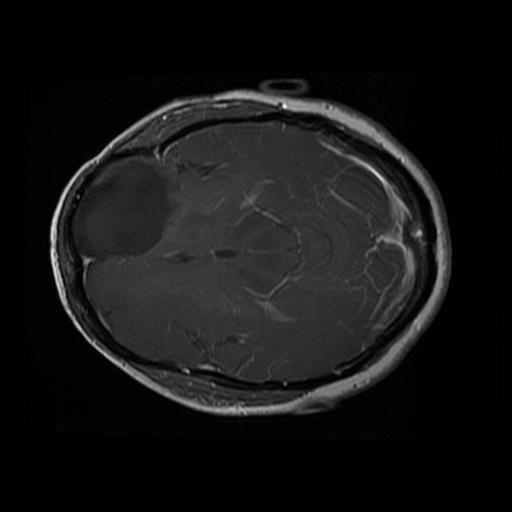glioma: (72, 155, 182, 266)
